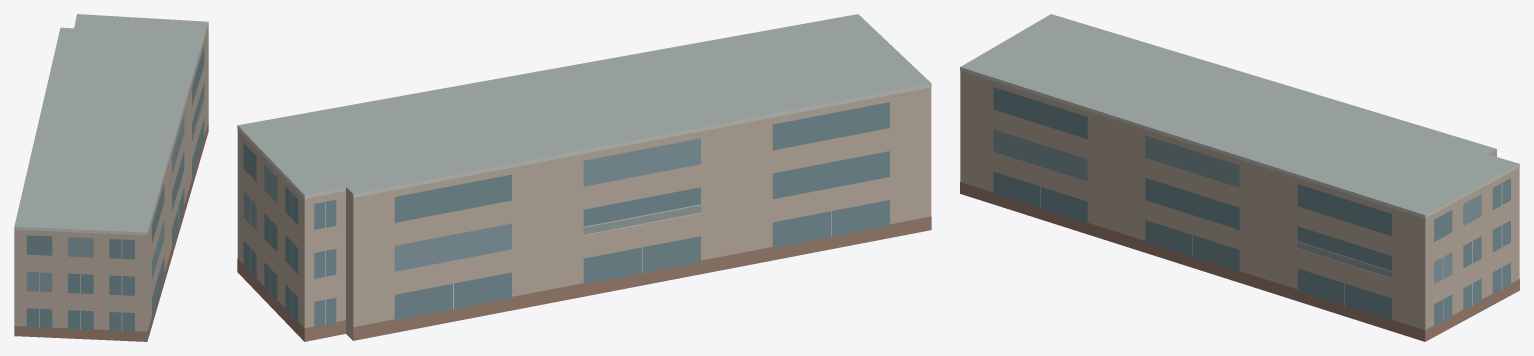
The model's file is survey-upis-32887069.glb.
3 renders of one model, left to right at view 1: azimuth 30°, elevation 25°; view 2: azimuth 150°, elevation 25°; view 3: azimuth 270°, elevation 25°, orthographic. The views are drawn at different scales.
Parts seen in each view (by area): view 1: survey-upis-32887069.tmp; view 2: survey-upis-32887069.tmp; view 3: survey-upis-32887069.tmp.
Boxes of the visible parts, left/top/right/bottom form: survey-upis-32887069.tmp: left=14, top=14, right=208, bottom=341; survey-upis-32887069.tmp: left=237, top=14, right=931, bottom=341; survey-upis-32887069.tmp: left=960, top=14, right=1519, bottom=341.
Size of the model in its own units: 31.15 by 9.15 by 36.62.
